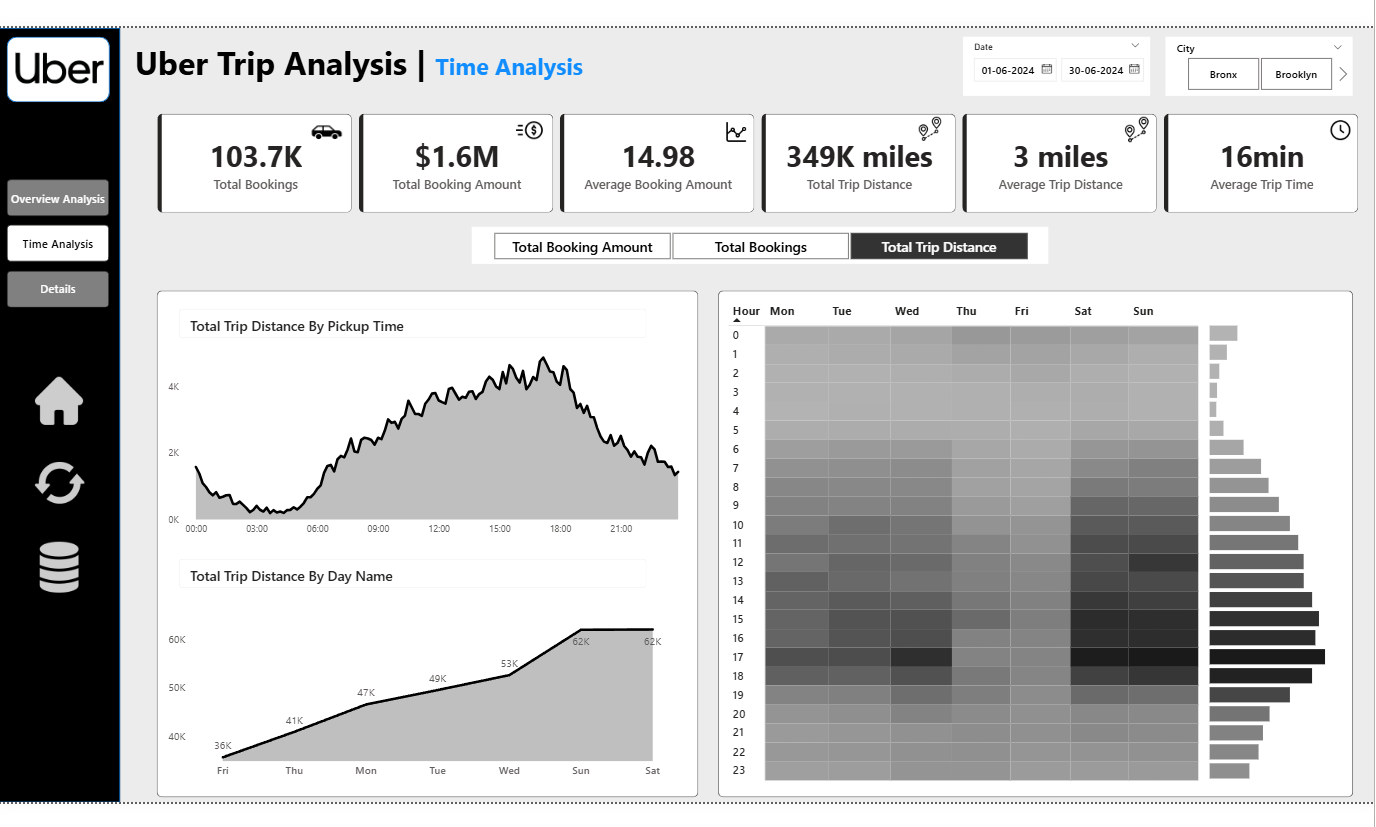

Layout of this report page (visuals, bound fields, positions):
{"tool":"powerbi","page":{"name":"Time Analysis","canvas":[1600,900],"ordinal":1},"visuals":[{"type":"shape","box":[0,0,142,900.5],"z":0},{"type":"textbox","box":[153.9,10.9,881.7,71.5],"z":1000},{"type":"cardVisual","fields":{"Data":["Trip Details.Total Bookings","Trip Details.Total Booking Amount","Trip Details.Average Booking Amount","Trip Details.Total Trip Distance","Trip Details.Average Trip Distance","Trip Details.Average Trip Time"]},"box":[167.9,82.4,1432.1,149.3],"z":2000},{"type":"image","box":[595.5,102.6,43.5,31.1],"z":3000},{"type":"image","box":[1060.5,102.6,46.6,28],"z":4000},{"type":"image","box":[1309.3,102.6,31.1,29.5],"z":5000},{"type":"image","box":[1548.7,102.6,23.3,31.1],"z":6000},{"type":"image","box":[844.3,107.3,28,26.4],"z":7000},{"type":"shape","box":[185,304.8,629.8,589.3],"z":8000},{"type":"image","box":[362.3,102.6,40.4,35.8],"z":9000},{"type":"slicer","fields":{"Values":["Calender Table.Date"]},"box":[1122.7,10.9,217.7,68.4],"z":10000},{"type":"slicer","fields":{"Values":["Location Table.City"]},"box":[1357.5,10.9,217.7,68.4],"z":11000},{"type":"slicer","fields":{"Values":["Dynamic Measure.Dynamic Measure"]},"box":[550.5,231.7,670.2,43.5],"z":12000},{"type":"cardVisual","fields":{"Data":["Trip Details.Titlle for by Pickup Time"]},"box":[192.8,309.4,578.4,68.4],"z":13000},{"type":"areaChart","fields":{"Y":["Trip Details.Total Trip Distance Measure"],"Category":["Trip Details.Pickup Hour (HH MM SS) (bins)"]},"box":[192.8,365.4,615.8,234.8],"z":14000},{"type":"areaChart","fields":{"Y":["Trip Details.Total Trip Distance Measure"],"Category":["Calender Table.Day Name"]},"box":[192.8,668.6,606.4,213],"z":15000},{"type":"cardVisual","fields":{"Data":["Trip Details.Titlle for by Day Name"]},"box":[192.8,600.2,578.4,68.4],"z":16000},{"type":"shape","box":[836.6,304.8,738.6,589.3],"z":17000},{"type":"pivotTable","fields":{"Values":["Trip Details.Total Trip Distance Measure"],"Rows":["Trip Details.Pickup Hour"],"Columns":["Calender Table.Day Name"]},"box":[844.3,312.5,559.8,576.9],"z":18000},{"type":"barChart","fields":{"Y":["Trip Details.Total Trip Distance Measure"],"Category":["Trip Details.Pickup Hour"]},"box":[1404.1,332.8,157,567.6],"z":19000},{"type":"shape","box":[10.9,10.9,119.7,76.2],"z":20000},{"type":"image","box":[20.2,0,102.6,93.3],"z":21000},{"type":"pageNavigator","box":[10.9,175.7,119.7,149.3],"z":22000},{"type":"image","box":[42,404.9,57.5,56],"z":23000},{"type":"image","box":[34.2,500.7,73.1,57.5],"z":24000},{"type":"image","box":[32.7,597.1,77.7,59.1],"z":25000}]}

Visuals, with their boxes on the page's 1600x900 design canvas (x1, y1, x2, y2). These are canvas units, not pixel positions in the 1376x827 screenshot, which may show the page scaled, cropped or inside an application window:
shape: (x1=0, y1=0, x2=142, y2=900)
textbox: (x1=154, y1=11, x2=1036, y2=82)
cardVisual - Trip Details.Total Bookings x Trip Details.Total Booking Amount: (x1=168, y1=82, x2=1600, y2=232)
image: (x1=596, y1=103, x2=639, y2=134)
image: (x1=1060, y1=103, x2=1107, y2=131)
image: (x1=1309, y1=103, x2=1340, y2=132)
image: (x1=1549, y1=103, x2=1572, y2=134)
image: (x1=844, y1=107, x2=872, y2=134)
shape: (x1=185, y1=305, x2=815, y2=894)
image: (x1=362, y1=103, x2=403, y2=138)
slicer - Calender Table.Date: (x1=1123, y1=11, x2=1340, y2=79)
slicer - Location Table.City: (x1=1358, y1=11, x2=1575, y2=79)
slicer - Dynamic Measure.Dynamic Measure: (x1=550, y1=232, x2=1221, y2=275)
cardVisual - Trip Details.Titlle for by Pickup Time: (x1=193, y1=309, x2=771, y2=378)
areaChart - Trip Details.Total Trip Distance Measure x Trip Details.Pickup Hour (HH MM SS) (bins): (x1=193, y1=365, x2=809, y2=600)
areaChart - Trip Details.Total Trip Distance Measure x Calender Table.Day Name: (x1=193, y1=669, x2=799, y2=882)
cardVisual - Trip Details.Titlle for by Day Name: (x1=193, y1=600, x2=771, y2=669)
shape: (x1=837, y1=305, x2=1575, y2=894)
pivotTable - Trip Details.Total Trip Distance Measure x Trip Details.Pickup Hour: (x1=844, y1=312, x2=1404, y2=889)
barChart - Trip Details.Total Trip Distance Measure x Trip Details.Pickup Hour: (x1=1404, y1=333, x2=1561, y2=900)
shape: (x1=11, y1=11, x2=131, y2=87)
image: (x1=20, y1=0, x2=123, y2=93)
pageNavigator: (x1=11, y1=176, x2=131, y2=325)
image: (x1=42, y1=405, x2=100, y2=461)
image: (x1=34, y1=501, x2=107, y2=558)
image: (x1=33, y1=597, x2=110, y2=656)
